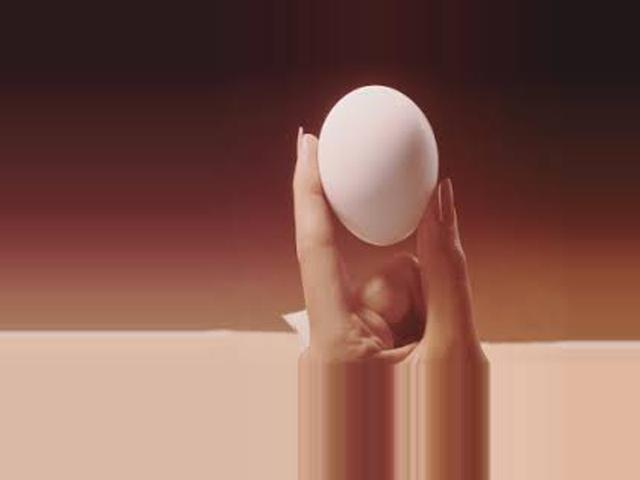egg: (318, 86, 440, 248)
